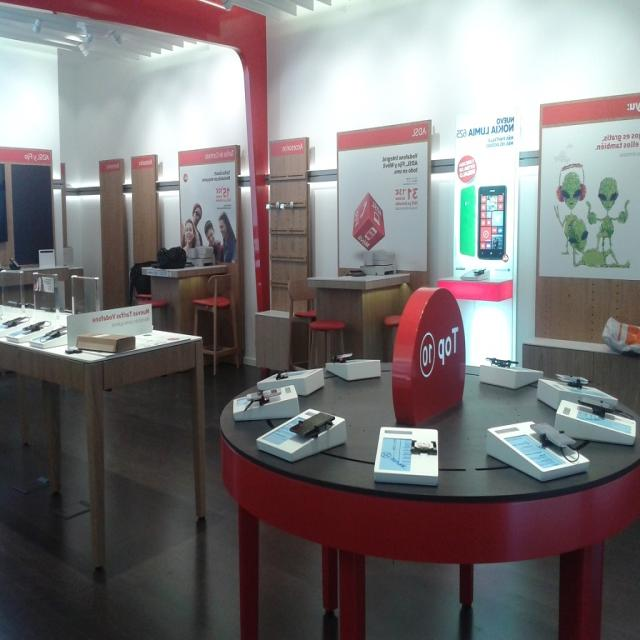mobile: (478, 182, 509, 260), (286, 407, 336, 448), (527, 420, 575, 461), (408, 424, 439, 465), (460, 187, 476, 259), (242, 384, 281, 406), (22, 314, 52, 335), (5, 308, 28, 332), (43, 324, 72, 341), (577, 400, 618, 411), (553, 373, 594, 384), (276, 366, 306, 381), (486, 356, 518, 370), (330, 352, 355, 362)
